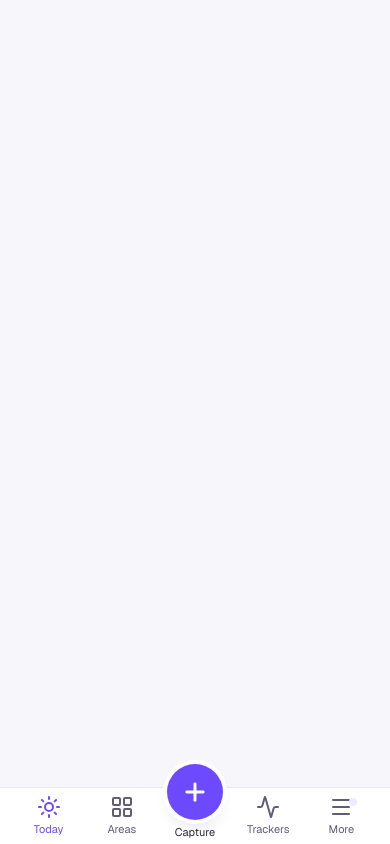
Test: More holds every other page, Settings included, with the Inbox count
Step 1. Click the button "More" → (341, 816), box [305,792,378,840]
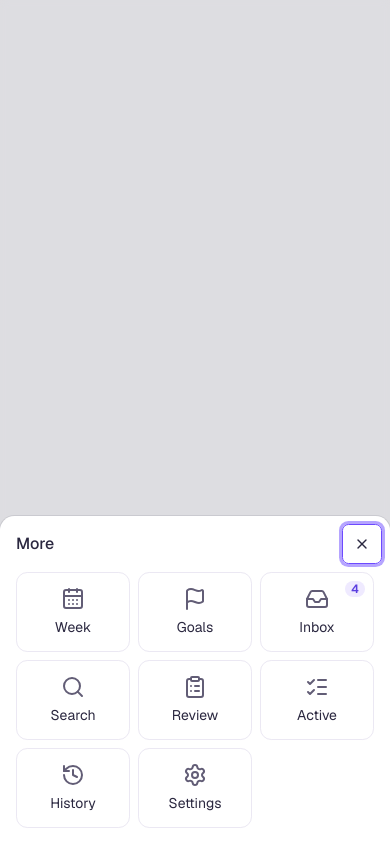
Check: the link "Inbox 4" is shown, box [260,572,374,652]
